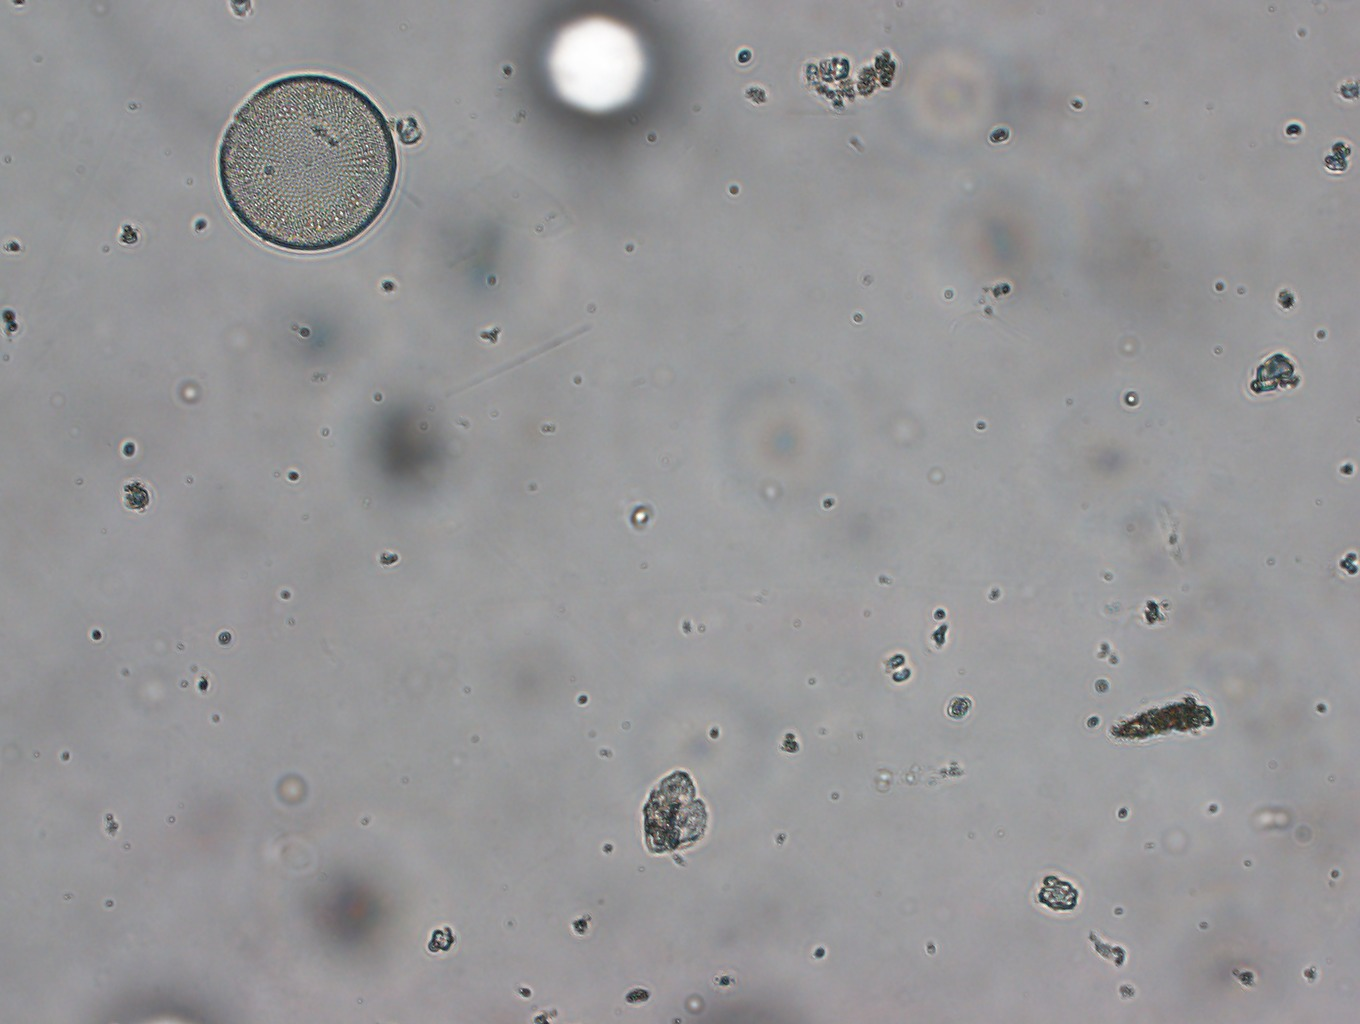coscinodiscus: (211, 67, 399, 260)
